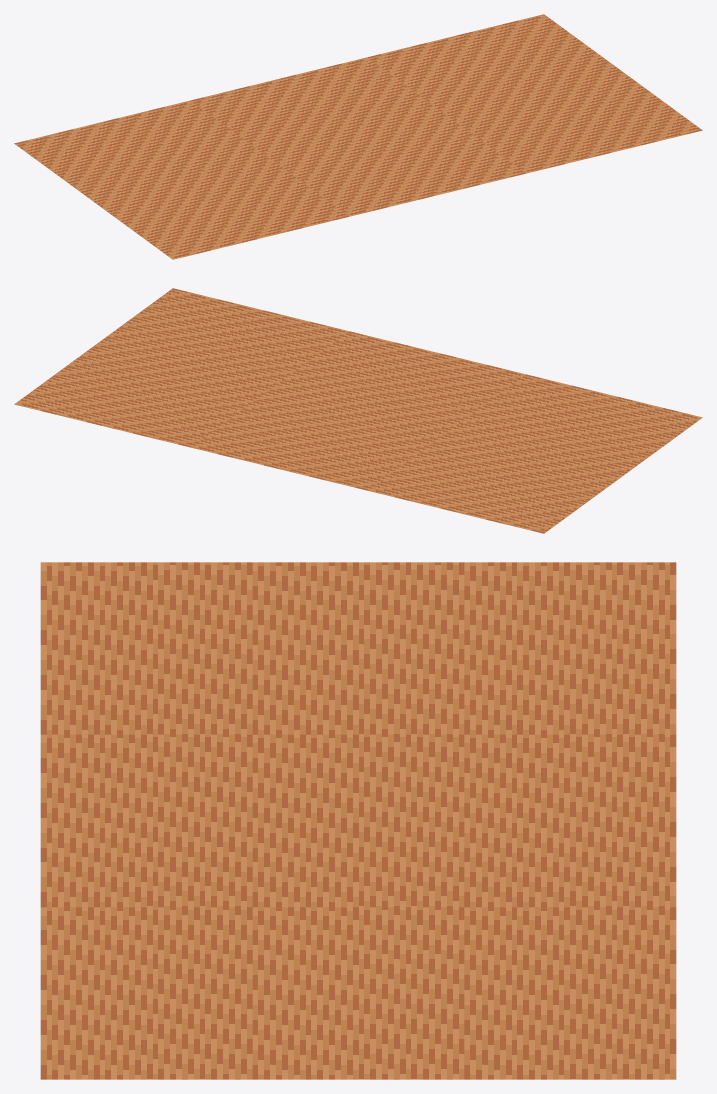
File: Battle_scene.gltf
3 renders of one model, top to bottom at view 1: azimuth 30°, elevation 25°; view 2: azimuth 150°, elevation 25°; view 3: azimuth 270°, elevation 25°, orthographic. The views are drawn at different scales.
Parts seen in each view (by area): view 1: plane (×9); view 2: plane (×9); view 3: plane (×9).
Part boxes in pixels (x1=…): plane (×9): x1=14, y1=14, x2=702, y2=259; plane (×9): x1=14, y1=288, x2=702, y2=533; plane (×9): x1=40, y1=562, x2=676, y2=1079.
Bounding box in the file's own units: 19.5 × 0 × 10.12.
Materials: 1 (1 with a texture image).
